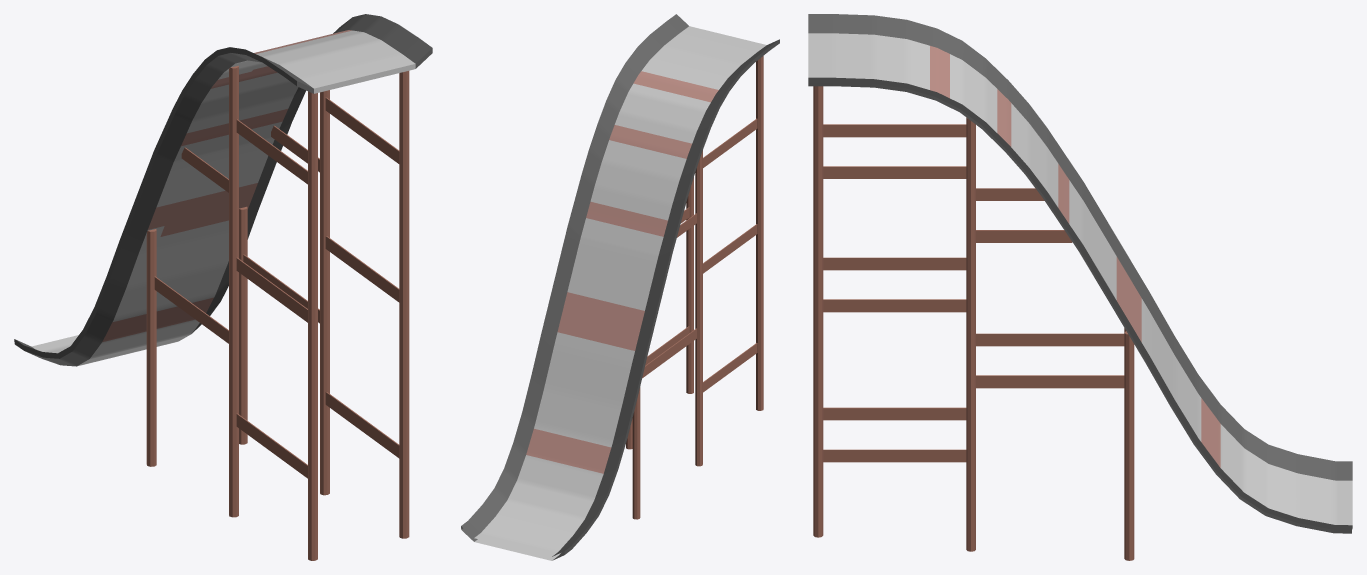
Rendered from snow_trampoline.fbx.
3 views of the same model, side by side, from view 1: azimuth 30°, elevation 25°; view 2: azimuth 150°, elevation 25°; view 3: azimuth 270°, elevation 25° (orthographic). The views are drawn at different scales.
Parts seen in each view (by area): view 1: pCube12; view 2: pCube12; view 3: pCube12.
Boxes of the visible parts, x1=… form: pCube12: x1=14, y1=14, x2=432, y2=560; pCube12: x1=461, y1=14, x2=779, y2=560; pCube12: x1=808, y1=14, x2=1352, y2=560.
Bounding box in the file's own units: 3.1 × 11.16 × 11.19.
